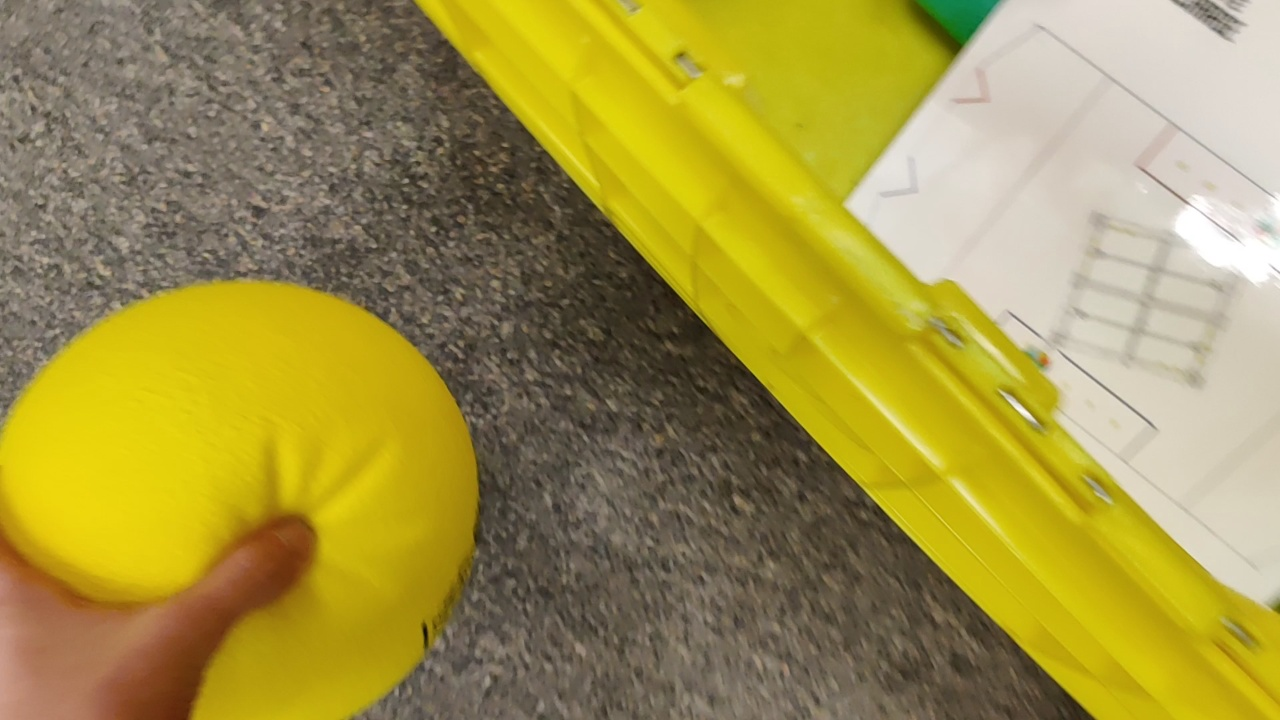Ball: (9, 284, 481, 720)
